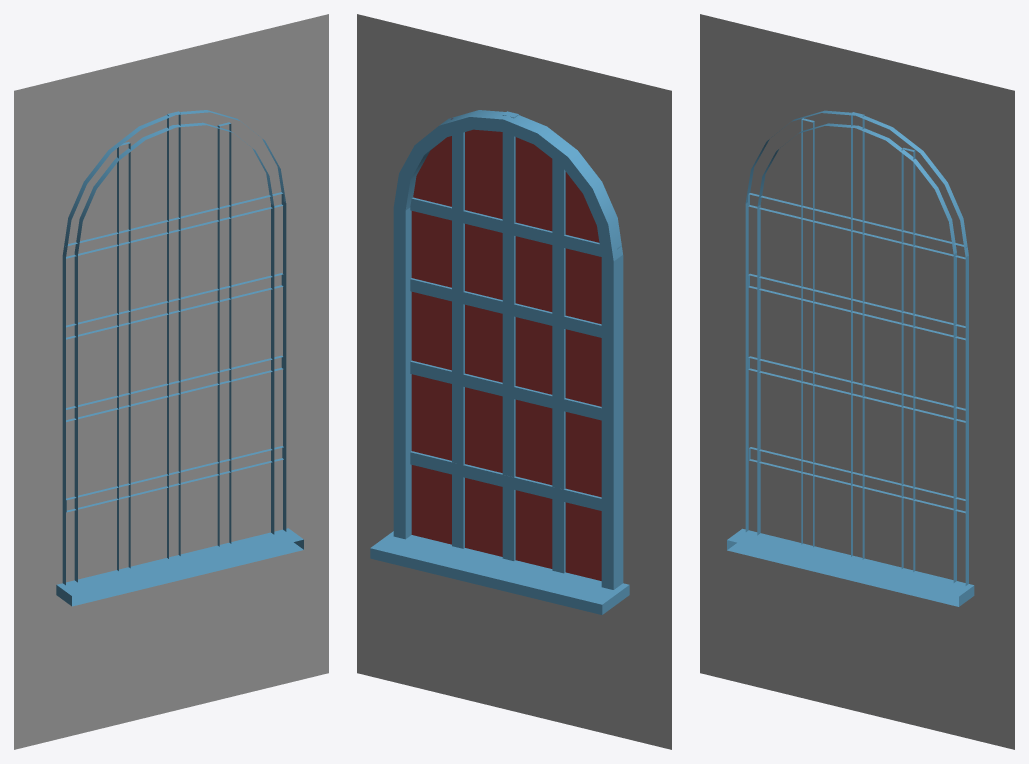
File: Prop_WallExtWindow6x3_01.fbx
3 renders of one model, left to right at view 1: azimuth 30°, elevation 25°; view 2: azimuth 150°, elevation 25°; view 3: azimuth 330°, elevation 25°, orthographic.
Parts seen in each view (by area): view 1: front4; view 2: front4; view 3: front4.
Part boxes in pixels (box(x1,y1,x2,y2)): front4: box(14, 14, 328, 749); front4: box(357, 14, 671, 749); front4: box(700, 14, 1014, 749).
Bounding box in the file's own units: 300 × 600 × 70.76.
